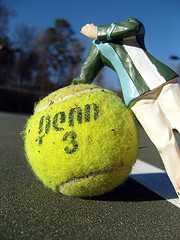tennis ball: (23, 83, 140, 198)
